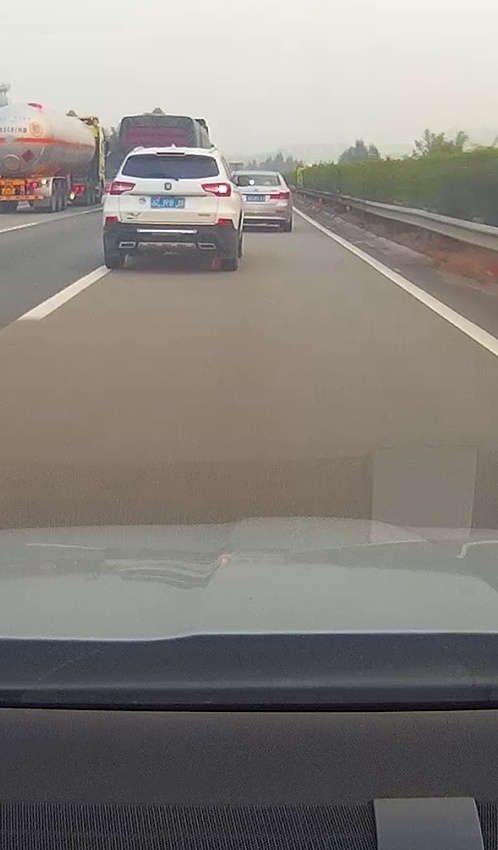L_light: (109, 180, 136, 195)
R_light: (201, 183, 231, 197)
T_light: (157, 152, 185, 155)
day-brake: (103, 146, 238, 271)
